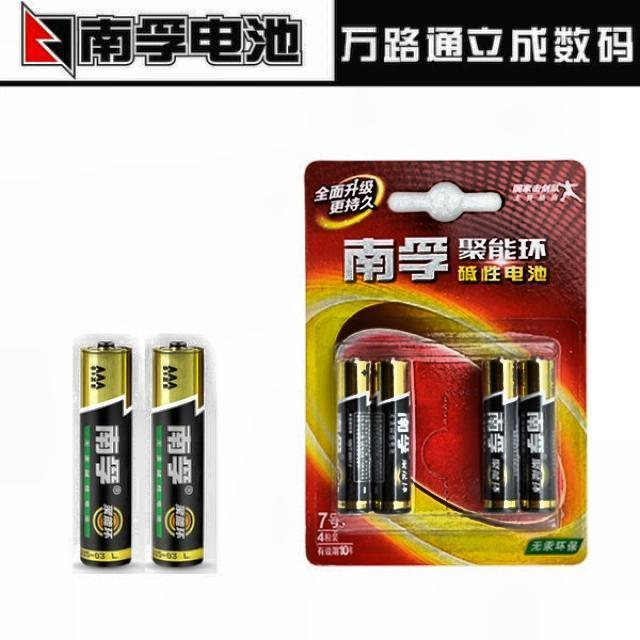battery: (305, 160, 586, 565), (152, 342, 204, 566), (80, 342, 131, 566)
